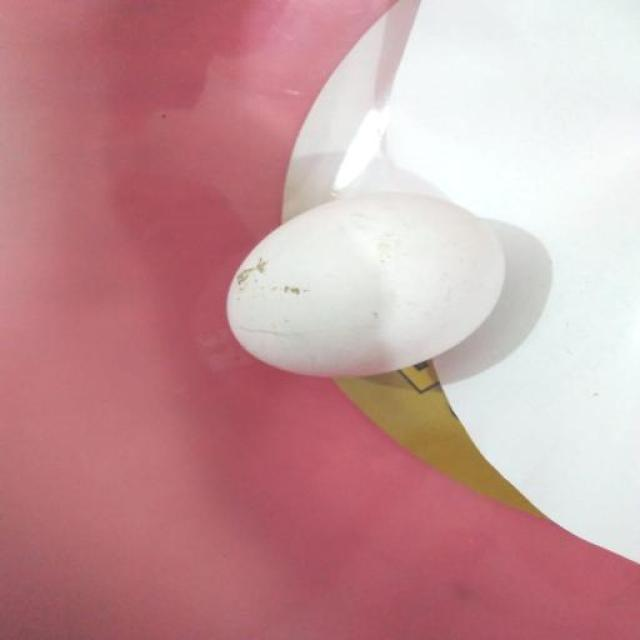telur: (225, 190, 505, 376)
